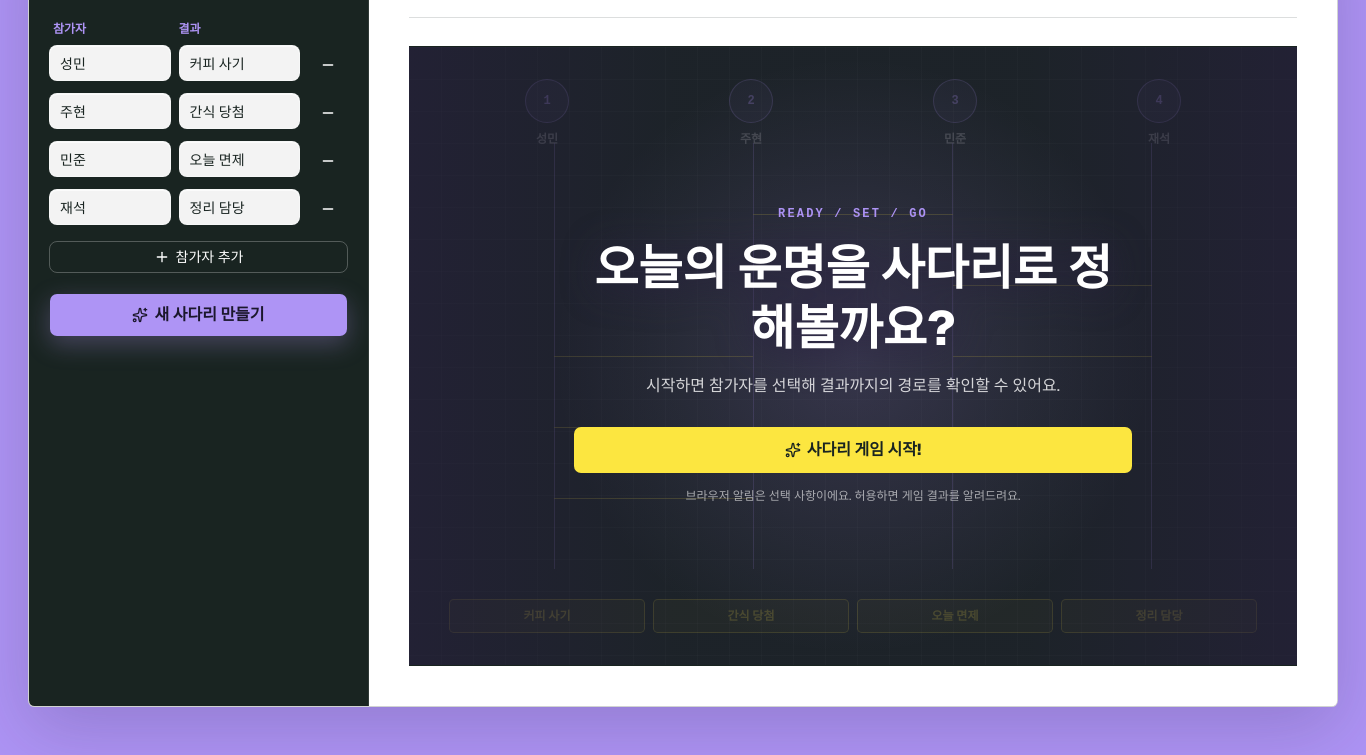
Test case: LadderGame › 알림을 지원하지 않아도 도착 결과를 표시한다
(page scrolled)
Click the button "사다리 게임 시작!" at (853, 450), box [573,426,1133,474]
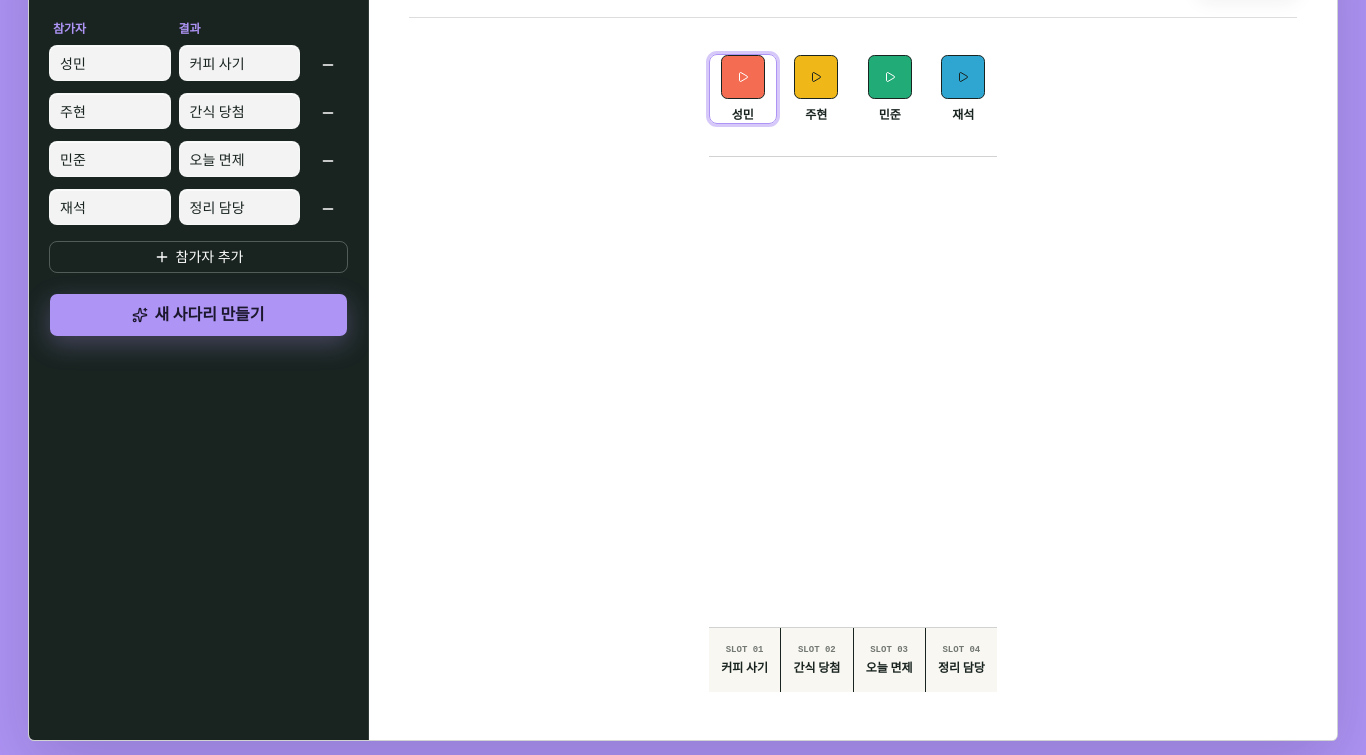
Click the button with aria-label "성민 경로 확인" at (743, 89), box [709,54,776,124]
(page scrolled)
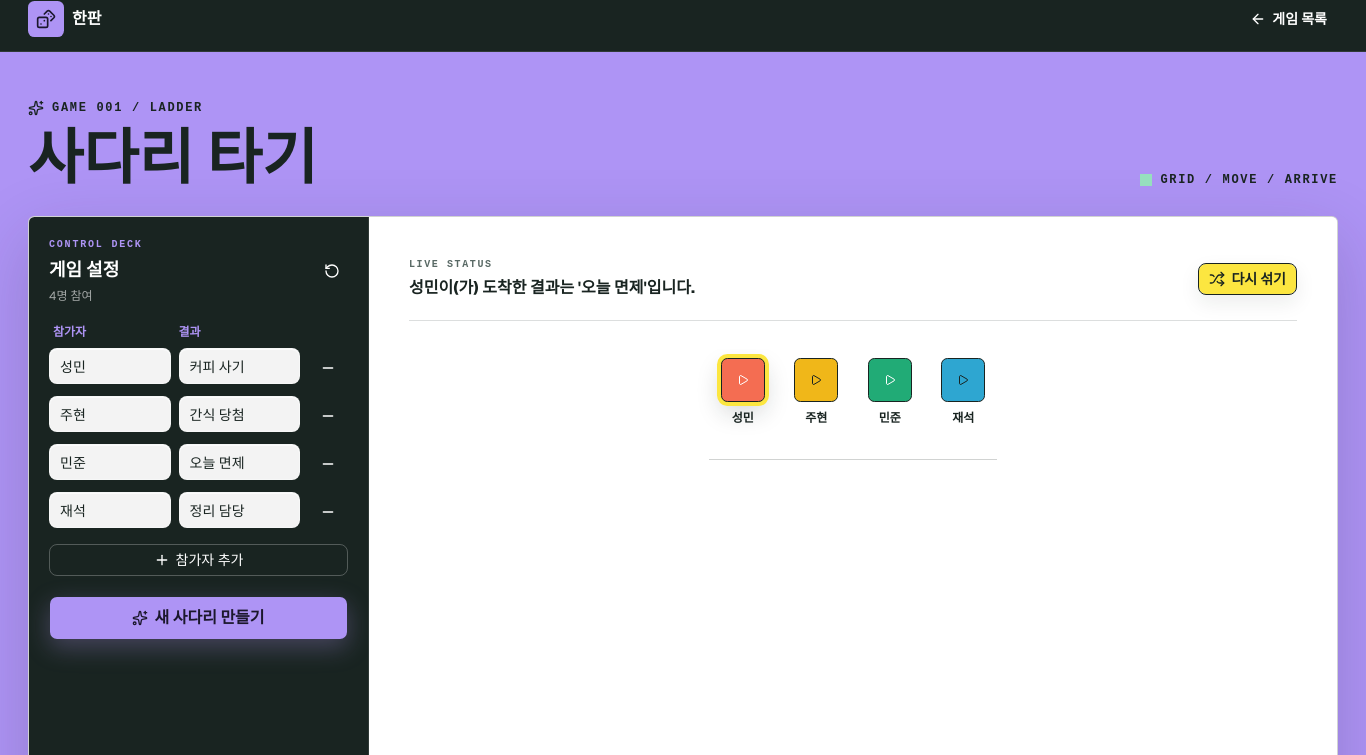
Result: the text with test id "ladder-result-message" reads "성민이(가) 도착한 결과는 '오늘 면제'입니다." at [409,277,695,298]
